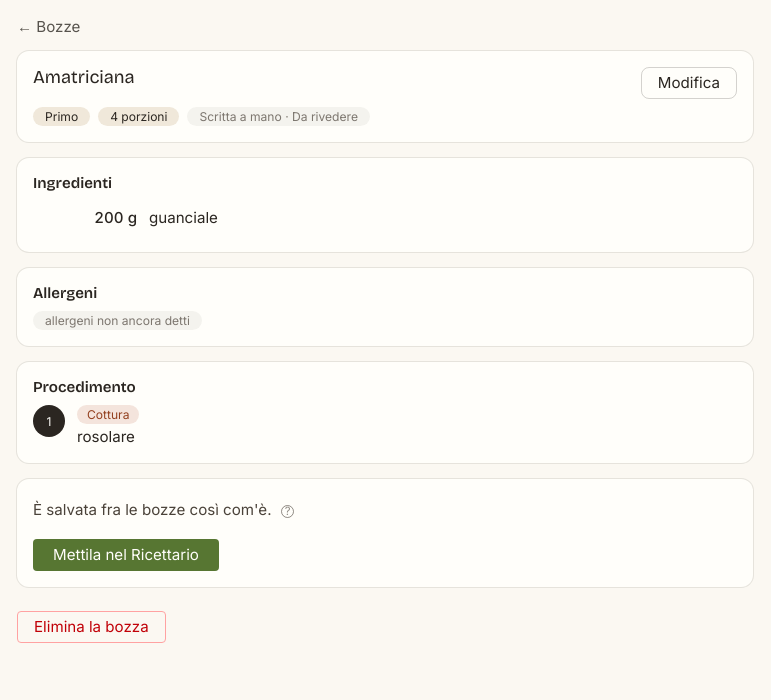
una schermata sola: si legge e si corregge in posto (11/10/2026) › «Modifica» trasforma i dati nei loro campi, senza un secondo modulo
Expected: the heading "Amatriciana" is shown, left=33, top=67, right=135, bottom=89
Expected: the button "+ Ingrediente" is not shown
Click the button "Modifica" at (689, 83), box left=641, top=67, right=737, bottom=99
(page scrolled)
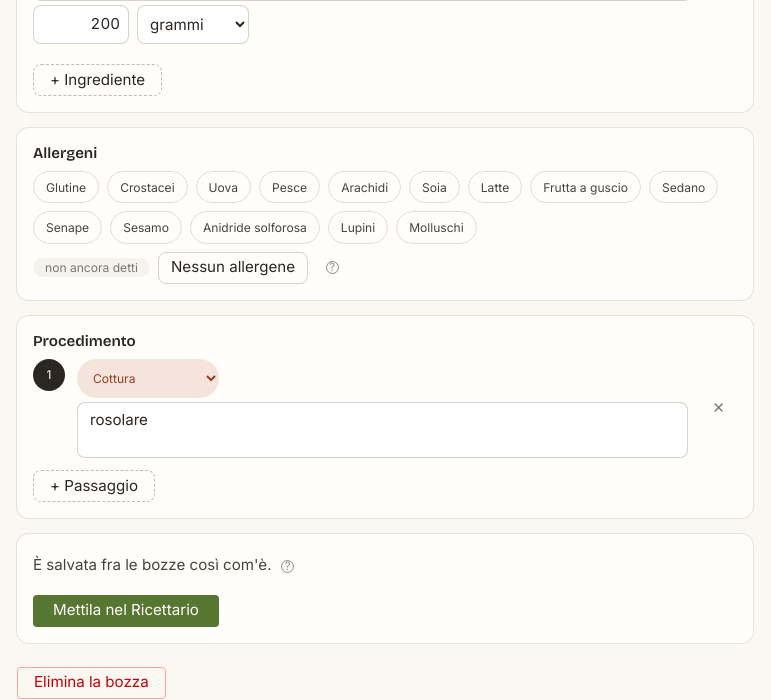
Result: the field named "Quantità di guanciale" holds "200" at left=33, top=5, right=129, bottom=44
Result: the text box named "Passaggio 1" holds "rosolare" at left=77, top=402, right=688, bottom=458
Select "Finitura" in the dropdown named "Fase del passaggio 1" at (148, 378), box left=77, top=359, right=219, bottom=398
(page scrolled)
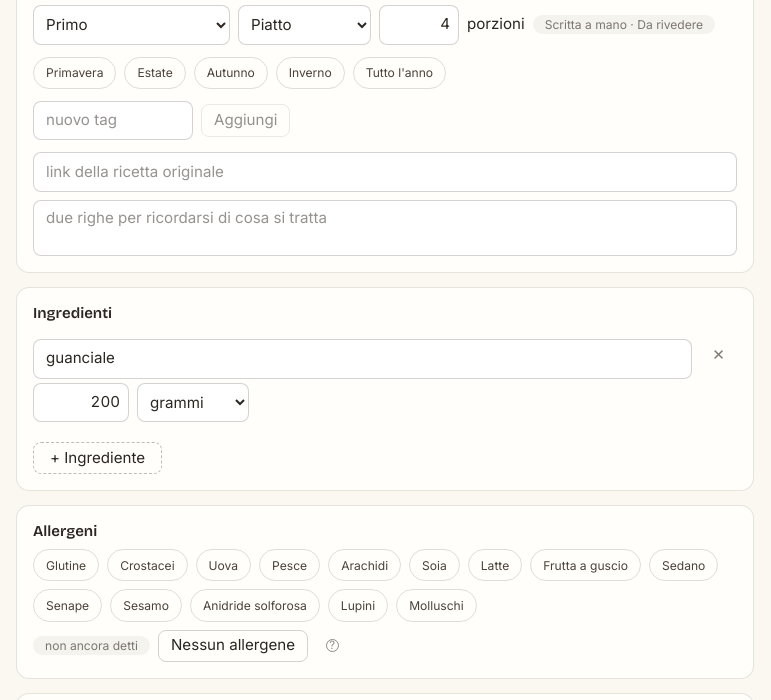
Click the button named "Togli guanciale" at (719, 355), box left=700, top=339, right=737, bottom=371
(page scrolled)
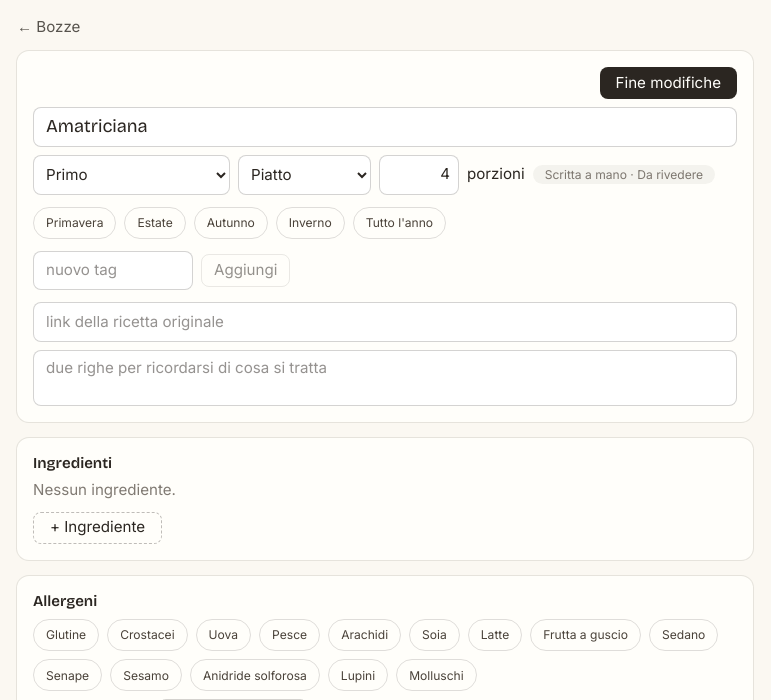
Click the button "Fine modifiche" at (668, 83), box left=600, top=67, right=737, bottom=99
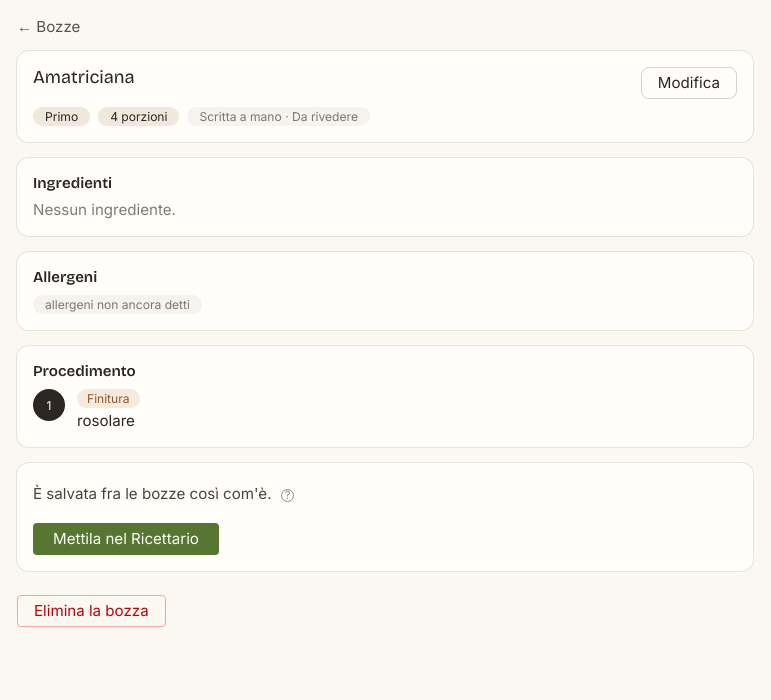
Result: the field labelled "Titolo" is gone
